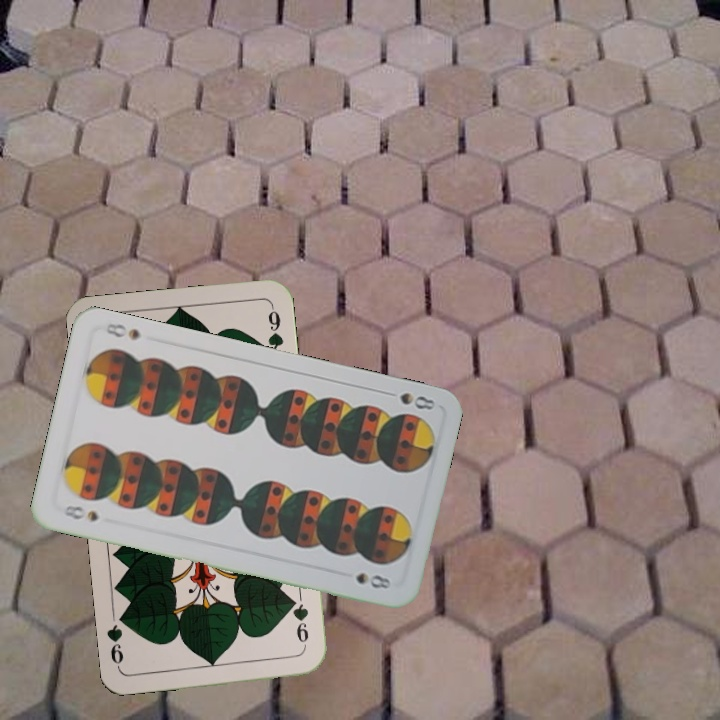G9: (287, 593, 311, 651)
S8: (380, 387, 438, 413), (59, 501, 101, 524)
